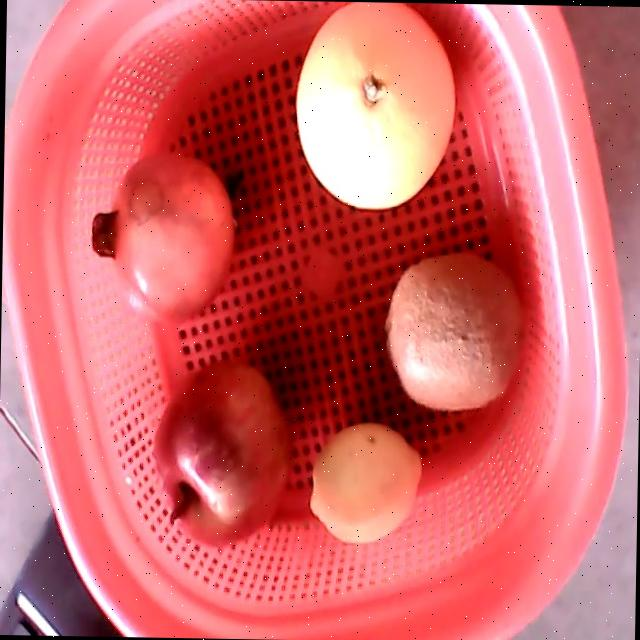apple: (149, 360, 292, 548)
kiwi: (383, 252, 524, 409)
lemon: (309, 420, 421, 543)
orange: (294, 2, 454, 208)
pomegranate: (88, 149, 234, 325)
